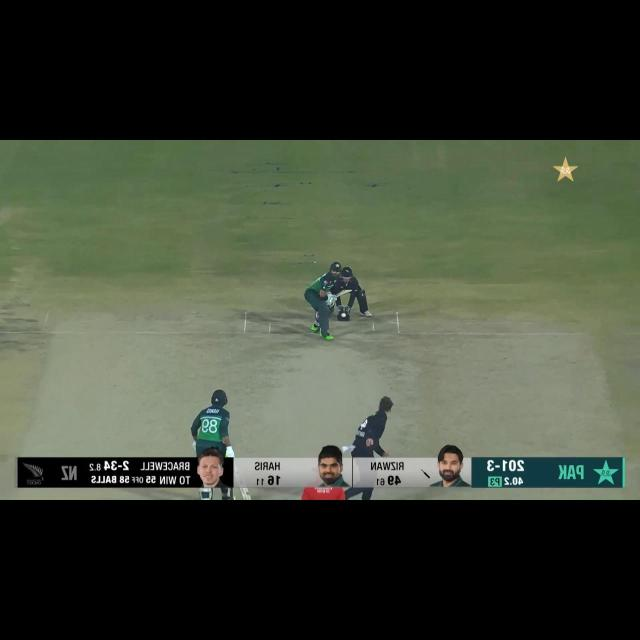bat: (240, 486, 253, 501), (334, 289, 354, 298)
toe: (240, 494, 253, 501), (347, 288, 352, 294)
